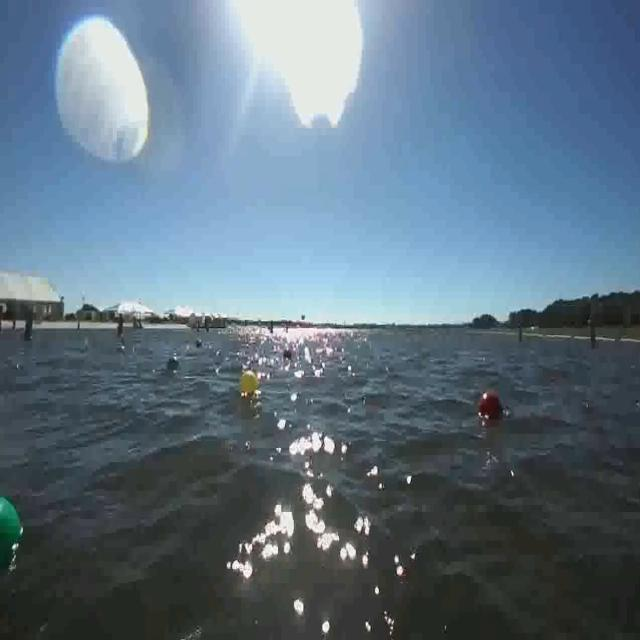green-buoy: (0, 496, 24, 550)
red-buoy: (480, 393, 503, 419)
yellow-buoy: (239, 368, 256, 396)
